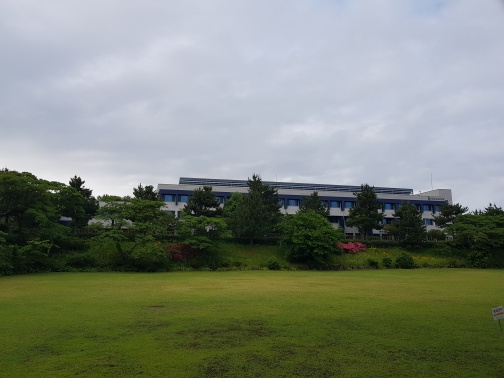College of Social Sciences: (146, 167, 458, 246)
